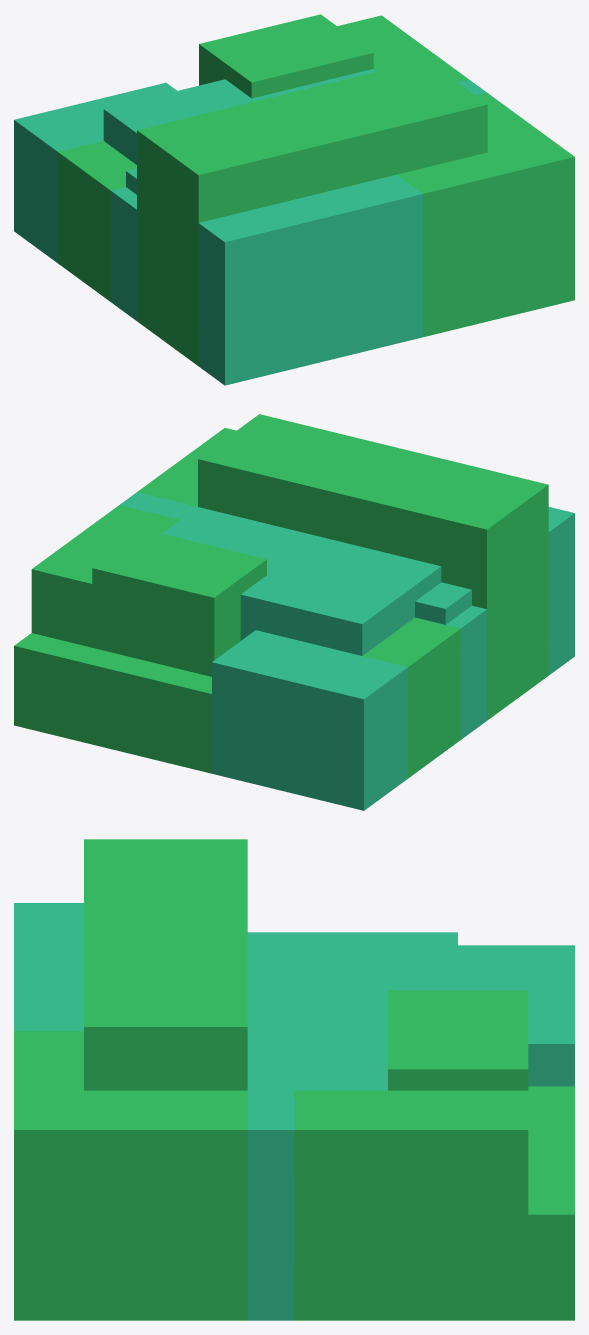
Rendered from Rocks2.dae.
3 views of the same model, one above another, from view 1: azimuth 30°, elevation 25°; view 2: azimuth 150°, elevation 25°; view 3: azimuth 270°, elevation 25° (orthographic). The views are drawn at different scales.
Visible parts, largest first — view 1: Rocks2; view 2: Rocks2; view 3: Rocks2.
Part boxes in pixels (x1,y1,x2,y2): Rocks2: (14, 14, 574, 385); Rocks2: (14, 414, 574, 810); Rocks2: (14, 839, 574, 1320).
Size of the model in its own units: 2.3 by 1.2 by 2.4.
1 material, 1 textured.
